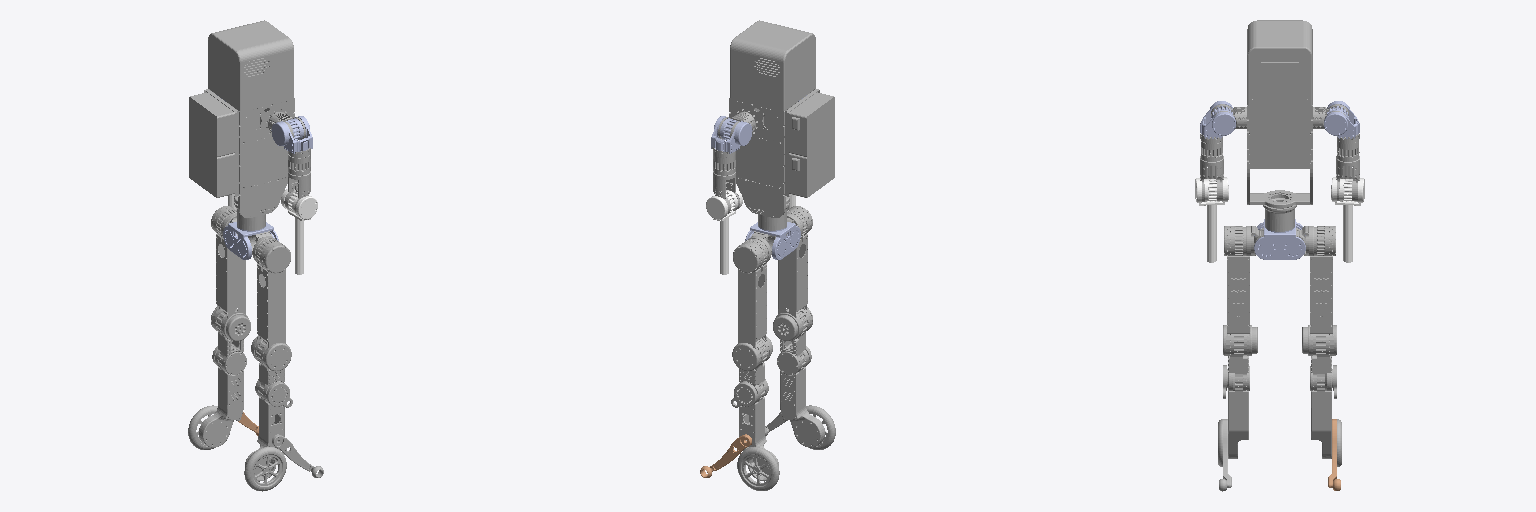
--- Facts derived from the render (not from the file) ---
Views: 3 orthographic renders of the robot side by side, from view 1: azimuth 30°, elevation 25°; view 2: azimuth 150°, elevation 25°; view 3: azimuth 270°, elevation 25°.
Model ren with 20 links and 19 joints (19 revolute), rooted at base_link, posed every joint at zero.
Visible links, largest first — view 1: TOP, LL3, RL2, RL3, LL2, RW, RA4, RA3, RA2, base_link, RL4, LW; view 2: TOP, RL3, LL2, LL3, RL2, LW, LA4, LA3, LA2, base_link, LL4, RW; view 3: TOP, RL2, LL2, RL3, LL3, base_link, LA4, RA4, RA3, LA3, LA2, RA2.
Link boxes in pixels (x1,y1,x2,y2): TOP: [189, 20, 294, 230]; LL3: [199, 307, 246, 447]; RL2: [251, 236, 290, 366]; RL3: [245, 338, 292, 481]; LL2: [211, 206, 250, 340]; RW: [244, 447, 286, 491]; RA4: [281, 189, 317, 274]; RA3: [284, 148, 310, 214]; RA2: [271, 116, 312, 153]; base_link: [223, 222, 278, 259]; RL4: [272, 434, 323, 477]; LW: [188, 405, 217, 449]; TOP: [729, 20, 834, 230]; RL3: [777, 307, 824, 447]; LL2: [733, 236, 772, 366]; LL3: [731, 338, 778, 481]; RL2: [773, 206, 812, 340]; LW: [737, 447, 779, 490]; LA4: [706, 189, 742, 274]; LA3: [712, 147, 739, 213]; LA2: [711, 116, 752, 153]; base_link: [745, 222, 800, 259]; LL4: [700, 434, 751, 477]; RW: [806, 405, 835, 449]; TOP: [1247, 20, 1312, 231]; RL2: [1224, 226, 1257, 355]; LL2: [1302, 226, 1335, 355]; RL3: [1223, 325, 1249, 458]; LL3: [1310, 325, 1336, 458]; base_link: [1254, 219, 1305, 259]; LA4: [1331, 177, 1364, 262]; RA4: [1195, 177, 1228, 262]; RA3: [1200, 134, 1223, 201]; LA3: [1336, 134, 1359, 201]; LA2: [1324, 101, 1359, 138]; RA2: [1200, 101, 1235, 138].
Size in the robot's own frame: 0.335 by 0.529 by 1.5 metres.
20 mesh visuals loaded from 20 distinct referenced files (20 binary STL).

The robot description file, URDF, robot "ren":
<?xml version="1.0" encoding="utf-8"?>
<!-- This URDF was automatically created by SolidWorks to URDF Exporter! Originally created by Stephen Brawner ([email redacted]) 
     Commit Version: 1.5.1-0-g916b5db  Build Version: 1.5.7152.31018
     For more information, please see http://wiki.ros.org/sw_urdf_exporter -->
<robot
  name="ren">
  <link
    name="base_link">
    <inertial>
      <origin
        xyz="-0.00293975992938375 1.323977515037E-09 -0.0693447638857504"
        rpy="0 0 0" />
      <mass
        value="0.663335054526636" />
      <inertia
        ixx="0.00122747507994997"
        ixy="-2.04639686858241E-11"
        ixz="9.0516144274473E-07"
        iyy="0.000481685162313589"
        iyz="-1.72311841232422E-12"
        izz="0.00115816037794915" />
    </inertial>
    <visual>
      <origin
        xyz="0 0 0"
        rpy="0 0 0" />
      <geometry>
        <mesh
          filename="package://ren/meshes/base_link.STL" />
      </geometry>
      <material
        name="">
        <color
          rgba="0.792156862745098 0.819607843137255 0.933333333333333 1" />
      </material>
    </visual>
    <collision>
      <origin
        xyz="0 0 0"
        rpy="0 0 0" />
      <geometry>
        <mesh
          filename="package://ren/meshes/base_link.STL" />
      </geometry>
    </collision>
  </link>
  <link
    name="TOP">
    <inertial>
      <origin
        xyz="-0.0489970149555728 0.000594579730228066 -0.0674765679410225"
        rpy="0 0 0" />
      <mass
        value="12.7217148493639" />
      <inertia
        ixx="0.0571970250285731"
        ixy="1.5404540110363E-06"
        ixz="-0.00174140735722603"
        iyy="0.048396512484348"
        iyz="-8.08878667518146E-05"
        izz="0.040685166830395" />
    </inertial>
    <visual>
      <origin
        xyz="0 0 0"
        rpy="0 0 0" />
      <geometry>
        <mesh
          filename="package://ren/meshes/TOP.STL" />
      </geometry>
      <material
        name="">
        <color
          rgba="0.752941176470588 0.752941176470588 0.752941176470588 1" />
      </material>
    </visual>
    <collision>
      <origin
        xyz="0 0 0"
        rpy="0 0 0" />
      <geometry>
        <mesh
          filename="package://ren/meshes/TOP.STL" />
      </geometry>
    </collision>
  </link>
  <joint
    name="TOPJ"
    type="revolute">
    <origin
      xyz="0 0 0.35639"
      rpy="0 0 0" />
    <parent
      link="base_link" />
    <child
      link="TOP" />
    <axis
      xyz="0 0 -1" />
    <limit
      lower="-3.14"
      upper="3.14"
      effort="200"
      velocity="10" />
    <dynamics
      damping="0.1"
      friction="0.1" />
  </joint>
  <link
    name="LA1">
    <inertial>
      <origin
        xyz="-0.00218055797602101 0.000646181874853546 0.0905734248661735"
        rpy="0 0 0" />
      <mass
        value="0.760412618087937" />
      <inertia
        ixx="0.000390359500041586"
        ixy="3.2863946752769E-07"
        ixz="-3.1518165182853E-06"
        iyy="0.000367514649858188"
        iyz="-1.96497269983667E-07"
        izz="0.000421183289539268" />
    </inertial>
    <visual>
      <origin
        xyz="0 0 0"
        rpy="0 0 0" />
      <geometry>
        <mesh
          filename="package://ren/meshes/LA1.STL" />
      </geometry>
      <material
        name="">
        <color
          rgba="0.752941176470588 0.752941176470588 0.752941176470588 1" />
      </material>
    </visual>
    <collision>
      <origin
        xyz="0 0 0"
        rpy="0 0 0" />
      <geometry>
        <mesh
          filename="package://ren/meshes/LA1.STL" />
      </geometry>
    </collision>
  </link>
  <joint
    name="LAJ1"
    type="revolute">
    <origin
      xyz="0.047556 0.17703 0"
      rpy="1.5708 0 -0.087266" />
    <parent
      link="TOP" />
    <child
      link="LA1" />
    <axis
      xyz="0 0 -1" />
    <limit
      lower="-3.14"
      upper="3.14"
      effort="200"
      velocity="10" />
    <dynamics
      damping="0.1"
      friction="0.1" />
  </joint>
  <link
    name="LA2">
    <inertial>
      <origin
        xyz="-0.00839423577620932 0.00464647595823475 -0.00212454559938208"
        rpy="0 0 0" />
      <mass
        value="0.595912232874906" />
      <inertia
        ixx="0.000239358522293934"
        ixy="3.41134487356889E-05"
        ixz="1.1187652188633E-05"
        iyy="0.000261249301376545"
        iyz="-7.66827158404053E-06"
        izz="0.000416205735224002" />
    </inertial>
    <visual>
      <origin
        xyz="0 0 0"
        rpy="0 0 0" />
      <geometry>
        <mesh
          filename="package://ren/meshes/LA2.STL" />
      </geometry>
      <material
        name="">
        <color
          rgba="0.792156862745098 0.819607843137255 0.933333333333333 1" />
      </material>
    </visual>
    <collision>
      <origin
        xyz="0 0 0"
        rpy="0 0 0" />
      <geometry>
        <mesh
          filename="package://ren/meshes/LA2.STL" />
      </geometry>
    </collision>
  </link>
  <joint
    name="LAJ2"
    type="revolute">
    <origin
      xyz="0 0 0"
      rpy="3.1416 -1.5708 0" />
    <parent
      link="LA1" />
    <child
      link="LA2" />
    <axis
      xyz="0 0 1" />
    <limit
      lower="-3.14"
      upper="3.14"
      effort="200"
      velocity="10" />
    <dynamics
      damping="0.1"
      friction="0.1" />
  </joint>
  <link
    name="LA3">
    <inertial>
      <origin
        xyz="-0.000338047198394732 -0.00117372685442382 0.0101820386038939"
        rpy="0 0 0" />
      <mass
        value="0.919977004364016" />
      <inertia
        ixx="0.000384365944068182"
        ixy="1.24745700673248E-08"
        ixz="2.62066961124455E-06"
        iyy="0.000415370591268254"
        iyz="-2.60019896240997E-06"
        izz="0.000460402007298747" />
    </inertial>
    <visual>
      <origin
        xyz="0 0 0"
        rpy="0 0 0" />
      <geometry>
        <mesh
          filename="package://ren/meshes/LA3.STL" />
      </geometry>
      <material
        name="">
        <color
          rgba="0.752941176470588 0.752941176470588 0.752941176470588 1" />
      </material>
    </visual>
    <collision>
      <origin
        xyz="0 0 0"
        rpy="0 0 0" />
      <geometry>
        <mesh
          filename="package://ren/meshes/LA3.STL" />
      </geometry>
    </collision>
  </link>
  <joint
    name="LAJ3"
    type="revolute">
    <origin
      xyz="-0.035 0.12115 0.00305"
      rpy="-1.5708 -1.5708 0" />
    <parent
      link="LA2" />
    <child
      link="LA3" />
    <axis
      xyz="0 0 -1" />
    <limit
      lower="-3.14"
      upper="3.14"
      effort="200"
      velocity="10" />
    <dynamics
      damping="0.1"
      friction="0.1" />
  </joint>
  <link
    name="LA4">
    <inertial>
      <origin
        xyz="-2.90770331529758E-05 -0.0332366120196396 0.00190144210670445"
        rpy="0 0 0" />
      <mass
        value="0.663638353774949" />
      <inertia
        ixx="0.000678786000372676"
        ixy="1.20301928448747E-07"
        ixz="-1.24075700829241E-09"
        iyy="0.000202806989784145"
        iyz="1.55083794985079E-06"
        izz="0.000800695806403115" />
    </inertial>
    <visual>
      <origin
        xyz="0 0 0"
        rpy="0 0 0" />
      <geometry>
        <mesh
          filename="package://ren/meshes/LA4.STL" />
      </geometry>
      <material
        name="">
        <color
          rgba="1 1 1 1" />
      </material>
    </visual>
    <collision>
      <origin
        xyz="0 0 0"
        rpy="0 0 0" />
      <geometry>
        <mesh
          filename="package://ren/meshes/LA4.STL" />
      </geometry>
    </collision>
  </link>
  <joint
    name="LAJ4"
    type="revolute">
    <origin
      xyz="3E-05 0.0003 0.11885"
      rpy="-1.5708 0 0" />
    <parent
      link="LA3" />
    <child
      link="LA4" />
    <axis
      xyz="0 0 1" />
    <limit
      lower="-3.14"
      upper="3.14"
      effort="200"
      velocity="10" />
    <dynamics
      damping="0.1"
      friction="0.1" />
  </joint>
  <link
    name="RA1">
    <inertial>
      <origin
        xyz="-0.00221740068894528 0.000646181890037345 -0.0905734249169372"
        rpy="0 0 0" />
      <mass
        value="0.760412619008332" />
      <inertia
        ixx="0.000390359500413006"
        ixy="-3.28640438379882E-07"
        ixz="3.11708799729397E-06"
        iyy="0.000367514649968398"
        iyz="1.96474091388662E-07"
        izz="0.00042118329000531" />
    </inertial>
    <visual>
      <origin
        xyz="0 0 0"
        rpy="0 0 0" />
      <geometry>
        <mesh
          filename="package://ren/meshes/RA1.STL" />
      </geometry>
      <material
        name="">
        <color
          rgba="0.752941176470588 0.752941176470588 0.752941176470588 1" />
      </material>
    </visual>
    <collision>
      <origin
        xyz="0 0 0"
        rpy="0 0 0" />
      <geometry>
        <mesh
          filename="package://ren/meshes/RA1.STL" />
      </geometry>
    </collision>
  </link>
  <joint
    name="RAJ1"
    type="revolute">
    <origin
      xyz="0.047556 -0.17703 0"
      rpy="1.5708 0 0.087266" />
    <parent
      link="TOP" />
    <child
      link="RA1" />
    <axis
      xyz="0 0 1" />
    <limit
      lower="0"
      upper="0"
      effort="0"
      velocity="0" />
  </joint>
  <link
    name="RA2">
    <inertial>
      <origin
        xyz="0.00839423578037551 0.00457937863592744 -0.002074959973339"
        rpy="0 0 0" />
      <mass
        value="0.595912232934406" />
      <inertia
        ixx="0.000239358522195328"
        ixy="-3.43540353634177E-05"
        ixz="-1.11868683878686E-05"
        iyy="0.000261249301151817"
        iyz="-7.66855758436119E-06"
        izz="0.000416205735061359" />
    </inertial>
    <visual>
      <origin
        xyz="0 0 0"
        rpy="0 0 0" />
      <geometry>
        <mesh
          filename="package://ren/meshes/RA2.STL" />
      </geometry>
      <material
        name="">
        <color
          rgba="0.792156862745098 0.819607843137255 0.933333333333333 1" />
      </material>
    </visual>
    <collision>
      <origin
        xyz="0 0 0"
        rpy="0 0 0" />
      <geometry>
        <mesh
          filename="package://ren/meshes/RA2.STL" />
      </geometry>
    </collision>
  </link>
  <joint
    name="RAJ2"
    type="revolute">
    <origin
      xyz="0 0 0"
      rpy="3.1416 -1.5708 0" />
    <parent
      link="RA1" />
    <child
      link="RA2" />
    <axis
      xyz="0 0 1" />
    <limit
      lower="0"
      upper="0"
      effort="0"
      velocity="0" />
  </joint>
  <link
    name="RA3">
    <inertial>
      <origin
        xyz="-0.000338046158253946 -0.00117372803390137 0.0101820365493139"
        rpy="0 0 0" />
      <mass
        value="0.919976972866004" />
      <inertia
        ixx="0.000384365950577081"
        ixy="1.24775351009354E-08"
        ixz="2.62065910689626E-06"
        iyy="0.000415370582221788"
        iyz="-2.6001573011258E-06"
        izz="0.000460402014748892" />
    </inertial>
    <visual>
      <origin
        xyz="0 0 0"
        rpy="0 0 0" />
      <geometry>
        <mesh
          filename="package://ren/meshes/RA3.STL" />
      </geometry>
      <material
        name="">
        <color
          rgba="0.752941176470588 0.752941176470588 0.752941176470588 1" />
      </material>
    </visual>
    <collision>
      <origin
        xyz="0 0 0"
        rpy="0 0 0" />
      <geometry>
        <mesh
          filename="package://ren/meshes/RA3.STL" />
      </geometry>
    </collision>
  </link>
  <joint
    name="RAJ3"
    type="revolute">
    <origin
      xyz="0.035 0.12115 0.00305"
      rpy="-1.5708 -1.5708 0" />
    <parent
      link="RA2" />
    <child
      link="RA3" />
    <axis
      xyz="0 0 -1" />
    <limit
      lower="0"
      upper="0"
      effort="0"
      velocity="0" />
  </joint>
  <link
    name="RA4">
    <inertial>
      <origin
        xyz="-2.90769992044304E-05 -0.0332366120022278 0.00190144210830098"
        rpy="0 0 0" />
      <mass
        value="0.663638354184862" />
      <inertia
        ixx="0.000678786000525314"
        ixy="1.20301937787547E-07"
        ixz="-1.24061784536992E-09"
        iyy="0.000202806990029451"
        iyz="1.55083794780911E-06"
        izz="0.000800695806794769" />
    </inertial>
    <visual>
      <origin
        xyz="0 0 0"
        rpy="0 0 0" />
      <geometry>
        <mesh
          filename="package://ren/meshes/RA4.STL" />
      </geometry>
      <material
        name="">
        <color
          rgba="1 1 1 1" />
      </material>
    </visual>
    <collision>
      <origin
        xyz="0 0 0"
        rpy="0 0 0" />
      <geometry>
        <mesh
          filename="package://ren/meshes/RA4.STL" />
      </geometry>
    </collision>
  </link>
  <joint
    name="RAJ4"
    type="revolute">
    <origin
      xyz="3E-05 0.0003 0.11885"
      rpy="-1.5708 0 0" />
    <parent
      link="RA3" />
    <child
      link="RA4" />
    <axis
      xyz="0 0 -1" />
    <limit
      lower="0"
      upper="0"
      effort="0"
      velocity="0" />
  </joint>
  <link
    name="RL1">
    <inertial>
      <origin
        xyz="0.0277301029541595 -0.240185029007825 0.0201778404288667"
        rpy="0 0 0" />
      <mass
        value="1.39472094177768" />
      <inertia
        ixx="0.000783466022998035"
        ixy="-1.05389756522326E-07"
        ixz="1.4837861679612E-05"
        iyy="0.00070334848018107"
        iyz="3.10600669490263E-07"
        izz="0.000945636953322435" />
    </inertial>
    <visual>
      <origin
        xyz="0 0 0"
        rpy="0 0 0" />
      <geometry>
        <mesh
          filename="package://ren/meshes/RL1.STL" />
      </geometry>
      <material
        name="">
        <color
          rgba="0.752941176470588 0.752941176470588 0.752941176470588 1" />
      </material>
    </visual>
    <collision>
      <origin
        xyz="0 0 0"
        rpy="0 0 0" />
      <geometry>
        <mesh
          filename="package://ren/meshes/RL1.STL" />
      </geometry>
    </collision>
  </link>
  <joint
    name="RLJ1"
    type="revolute">
    <origin
      xyz="0 -0.0405 -0.083614"
      rpy="-1.5708 0 -1.5708" />
    <parent
      link="base_link" />
    <child
      link="RL1" />
    <axis
      xyz="0 0 -1" />
    <limit
      lower="0"
      upper="0"
      effort="0"
      velocity="0" />
  </joint>
  <link
    name="RL2">
    <inertial>
      <origin
        xyz="0.00010671712181242 -0.0839727349122329 -0.0181510936296701"
        rpy="0 0 0" />
      <mass
        value="2.22253145416977" />
      <inertia
        ixx="0.00973394164705822"
        ixy="-9.84097226630028E-07"
        ixz="9.09129684459083E-06"
        iyy="0.00125876832868157"
        iyz="-8.88597753309385E-06"
        izz="0.0101131739084594" />
    </inertial>
    <visual>
      <origin
        xyz="0 0 0"
        rpy="0 0 0" />
      <geometry>
        <mesh
          filename="package://ren/meshes/RL2.STL" />
      </geometry>
      <material
        name="">
        <color
          rgba="0.752941176470588 0.752941176470588 0.752941176470588 1" />
      </material>
    </visual>
    <collision>
      <origin
        xyz="0 0 0"
        rpy="0 0 0" />
      <geometry>
        <mesh
          filename="package://ren/meshes/RL2.STL" />
      </geometry>
    </collision>
  </link>
  <joint
    name="RLJ2"
    type="revolute">
    <origin
      xyz="0.07925 0 0"
      rpy="3.141592 -1.5708 0" />
    <parent
      link="RL1" />
    <child
      link="RL2" />
    <axis
      xyz="0 0 -1" />
    <limit
      lower="0"
      upper="0"
      effort="0"
      velocity="0" />
  </joint>
  <link
    name="RL3">
    <inertial>
      <origin
        xyz="-0.0043098957643965 -0.139812599504077 0.0120939554062656"
        rpy="0 0 0" />
      <mass
        value="2.32413808054881" />
      <inertia
        ixx="0.0183327755074094"
        ixy="-0.00137254811335771"
        ixz="8.14042506352202E-05"
        iyy="0.00177722419784693"
        iyz="0.000819553167867784"
        izz="0.0195176221716337" />
    </inertial>
    <visual>
      <origin
        xyz="0 0 0"
        rpy="0 0 0" />
      <geometry>
        <mesh
          filename="package://ren/meshes/RL3.STL" />
      </geometry>
      <material
        name="">
        <color
          rgba="0.752941176470588 0.752941176470588 0.752941176470588 1" />
      </material>
    </visual>
    <collision>
      <origin
        xyz="0 0 0"
        rpy="0 0 0" />
      <geometry>
        <mesh
          filename="package://ren/meshes/RL3.STL" />
      </geometry>
    </collision>
  </link>
  <joint
    name="RLJ3"
    type="revolute">
    <origin
      xyz="0 -0.34 0"
      rpy="0 0 0" />
    <parent
      link="RL2" />
    <child
      link="RL3" />
    <axis
      xyz="0 0 -1" />
    <limit
      lower="0"
      upper="0"
      effort="0"
      velocity="0" />
  </joint>
  <link
    name="RL4">
    <inertial>
      <origin
        xyz="0.0457248585468498 0.0172073184306195 0.00788432762882399"
        rpy="0 0 0" />
      <mass
        value="0.560109698923052" />
      <inertia
        ixx="0.000821586975683291"
        ixy="0.000409960629590359"
        ixz="1.92867667750741E-05"
        iyy="0.000499896149783243"
        iyz="-1.91704092749729E-05"
        izz="0.0012851947385048" />
    </inertial>
    <visual>
      <origin
        xyz="0 0 0"
        rpy="0 0 0" />
      <geometry>
        <mesh
          filename="package://ren/meshes/RL4.STL" />
      </geometry>
      <material
        name="">
        <color
          rgba="0.752941176470588 0.752941176470588 0.752941176470588 1" />
      </material>
    </visual>
    <collision>
      <origin
        xyz="0 0 0"
        rpy="0 0 0" />
      <geometry>
        <mesh
          filename="package://ren/meshes/RL4.STL" />
      </geometry>
    </collision>
  </link>
  <joint
    name="RLJ4"
    type="revolute">
    <origin
      xyz="0 -0.292 0.04575"
      rpy="0 0 0" />
    <parent
      link="RL3" />
    <child
      link="RL4" />
    <axis
      xyz="0 0 1" />
    <limit
      lower="0"
      upper="0"
      effort="0"
      velocity="0" />
  </joint>
  <link
    name="RW">
    <inertial>
      <origin
        xyz="-3.13582492968215E-05 -2.36301357617874E-05 -0.00592704058953694"
        rpy="0 0 0" />
      <mass
        value="0.70265402062641" />
      <inertia
        ixx="0.000924713396596756"
        ixy="4.12208118984811E-07"
        ixz="-4.83145045225567E-07"
        iyy="0.000924476999044574"
        iyz="-3.64075905616755E-07"
        izz="0.00171836727830941" />
    </inertial>
    <visual>
      <origin
        xyz="0 0 0"
        rpy="0 0 0" />
      <geometry>
        <mesh
          filename="package://ren/meshes/RW.STL" />
      </geometry>
      <material
        name="">
        <color
          rgba="0.752941176470588 0.752941176470588 0.752941176470588 1" />
      </material>
    </visual>
    <collision>
      <origin
        xyz="0 0 0"
        rpy="0 0 0" />
      <geometry>
        <mesh
          filename="package://ren/meshes/RW.STL" />
      </geometry>
    </collision>
  </link>
  <joint
    name="RWJ"
    type="revolute">
    <origin
      xyz="-0.05 -0.375 0.05775"
      rpy="0 0 0" />
    <parent
      link="RL3" />
    <child
      link="RW" />
    <axis
      xyz="0 0 -1" />
    <limit
      lower="0"
      upper="0"
      effort="0"
      velocity="0" />
  </joint>
  <link
    name="LL1">
    <inertial>
      <origin
        xyz="-0.00522958963442879 -0.000129002514071855 -0.000532259027126124"
        rpy="0 0 0" />
      <mass
        value="0.634308322769342" />
      <inertia
        ixx="0.000363058150955376"
        ixy="1.18979593135409E-07"
        ixz="-9.09188180730931E-06"
        iyy="0.000335833830212672"
        iyz="-3.3465256334033E-10"
        izz="0.000554502034946778" />
    </inertial>
    <visual>
      <origin
        xyz="0 0 0"
        rpy="0 0 0" />
      <geometry>
        <mesh
          filename="package://ren/meshes/LL1.STL" />
      </geometry>
      <material
        name="">
        <color
          rgba="0.752941176470588 0.752941176470588 0.752941176470588 1" />
      </material>
    </visual>
    <collision>
      <origin
        xyz="0 0 0"
        rpy="0 0 0" />
      <geometry>
        <mesh
          filename="package://ren/meshes/LL1.STL" />
      </geometry>
    </collision>
  </link>
  <joint
    name="LLJ1"
    type="revolute">
    <origin
      xyz="0 0.0405 -0.083614"
      rpy="-1.5708 0 -1.5708" />
    <parent
      link="base_link" />
    <child
      link="LL1" />
    <axis
      xyz="0 0 -1" />
    <limit
      lower="0"
      upper="0"
      effort="0"
      velocity="0" />
  </joint>
  <link
    name="LL2">
    <inertial>
      <origin
        xyz="0.000361912912055841 -0.117601022708768 -0.00414202294261423"
        rpy="0 0 0" />
      <mass
        value="1.58822313140042" />
      <inertia
        ixx="0.00917943961211141"
        ixy="4.02102009829047E-07"
        ixz="1.55752455034906E-09"
        iyy="0.000922934498468899"
        iyz="7.40981952049394E-06"
        izz="0.00975011575750405" />
    </inertial>
    <visual>
      <origin
        xyz="0 0 0"
        rpy="0 0 0" />
      <geometry>
        <mesh
          filename="package://ren/meshes/LL2.STL" />
      </geometry>
      <material
        name="">
        <color
          rgba="0.752941176470588 0.752941176470588 0.752941176470588 1" />
      </material>
    </visual>
    <collision>
      <origin
        xyz="0 0 0"
        rpy="0 0 0" />
      <geometry>
        <mesh
          filename="package://ren/meshes/LL2.STL" />
      </geometry>
    </collision>
  </link>
  <joint
    name="LLJ2"
    type="revolute">
    <origin
      xyz="-0.07925 0 0"
      rpy="3.141592 -1.5708 0" />
    <parent
      link="LL1" />
    <child
      link="LL2" />
    <axis
      xyz="0 0 1" />
    <limit
      lower="0"
      upper="0"
      effort="0"
      velocity="0" />
  </joint>
  <link
    name="LL3">
    <inertial>
      <origin
        xyz="-0.00430925716268378 -0.139812505773934 -0.0120939621479553"
        rpy="0 0 0" />
      <mass
        value="2.32413968759875" />
      <inertia
        ixx="0.0183328374629338"
        ixy="-0.00137251448569154"
        ixz="-8.14173653019908E-05"
        iyy="0.00177722468458668"
        iyz="-0.000819557468678058"
        izz="0.0195176849599387" />
    </inertial>
    <visual>
      <origin
        xyz="0 0 0"
        rpy="0 0 0" />
      <geometry>
        <mesh
          filename="package://ren/meshes/LL3.STL" />
      </geometry>
      <material
        name="">
        <color
          rgba="0.752941176470588 0.752941176470588 0.752941176470588 1" />
      </material>
    </visual>
    <collision>
      <origin
        xyz="0 0 0"
        rpy="0 0 0" />
      <geometry>
        <mesh
          filename="package://ren/meshes/LL3.STL" />
      </geometry>
    </collision>
  </link>
  <joint
    name="LLJ3"
    type="revolute">
    <origin
      xyz="0 -0.34 0"
      rpy="0 0 0" />
    <parent
      link="LL2" />
    <child
      link="LL3" />
    <axis
      xyz="0 0 1" />
    <limit
      lower="0"
      upper="0"
      effort="0"
      velocity="0" />
  </joint>
  <link
    name="LL4">
    <inertial>
      <origin
        xyz="0.0457383237923628 0.0172204246115848 -0.00788432826387828"
        rpy="0 0 0" />
      <mass
        value="0.560109884458588" />
      <inertia
        ixx="0.000821350552483379"
        ixy="0.000409975935601804"
        ixz="-1.92922738682847E-05"
        iyy="0.000500133611235971"
        iyz="1.91647623119208E-05"
        izz="0.0012851957558175" />
    </inertial>
    <visual>
      <origin
        xyz="0 0 0"
        rpy="0 0 0" />
      <geometry>
        <mesh
          filename="package://ren/meshes/LL4.STL" />
      </geometry>
      <material
        name="">
        <color
          rgba="0.854901960784314 0.674509803921569 0.541176470588235 1" />
      </material>
    </visual>
    <collision>
      <origin
        xyz="0 0 0"
        rpy="0 0 0" />
      <geometry>
        <mesh
          filename="package://ren/meshes/LL4.STL" />
      </geometry>
    </collision>
  </link>
  <joint
    name="LLJ4"
    type="revolute">
    <origin
      xyz="0 -0.292 -0.04575"
      rpy="0 0 0" />
    <parent
      link="LL3" />
    <child
      link="LL4" />
    <axis
      xyz="0 0 -1" />
    <limit
      lower="0"
      upper="0"
      effort="0"
      velocity="0" />
  </joint>
  <link
    name="LW">
    <inertial>
      <origin
        xyz="-1.59704256713772E-05 -3.58701633528247E-05 0.00592704058953694"
        rpy="0 0 0" />
      <mass
        value="0.702654020626412" />
      <inertia
        ixx="0.000924308261318603"
        ixy="3.18675270155961E-07"
        ixz="2.46060676418637E-07"
        iyy="0.000924882134322732"
        iyz="5.52661327846715E-07"
        izz="0.00171836727830941" />
    </inertial>
    <visual>
      <origin
        xyz="0 0 0"
        rpy="0 0 0" />
      <geometry>
        <mesh
          filename="package://ren/meshes/LW.STL" />
      </geometry>
      <material
        name="">
        <color
          rgba="0.752941176470588 0.752941176470588 0.752941176470588 1" />
      </material>
    </visual>
    <collision>
      <origin
        xyz="0 0 0"
        rpy="0 0 0" />
      <geometry>
        <mesh
          filename="package://ren/meshes/LW.STL" />
      </geometry>
    </collision>
  </link>
  <joint
    name="LWJ"
    type="revolute">
    <origin
      xyz="-0.05 -0.375 -0.05775"
      rpy="0 0 0" />
    <parent
      link="LL3" />
    <child
      link="LW" />
    <axis
      xyz="0 0 1" />
    <limit
      lower="0"
      upper="0"
      effort="0"
      velocity="0" />
  </joint>
</robot>
